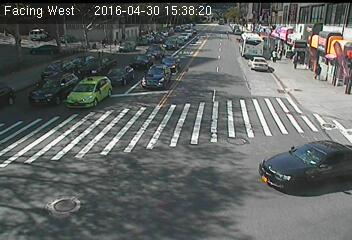neg: (232, 80, 266, 125), (33, 67, 51, 91), (91, 68, 108, 92), (181, 61, 198, 84), (144, 65, 158, 83)
pos: (311, 60, 327, 80), (289, 49, 305, 69), (267, 47, 278, 62), (99, 36, 109, 49)
